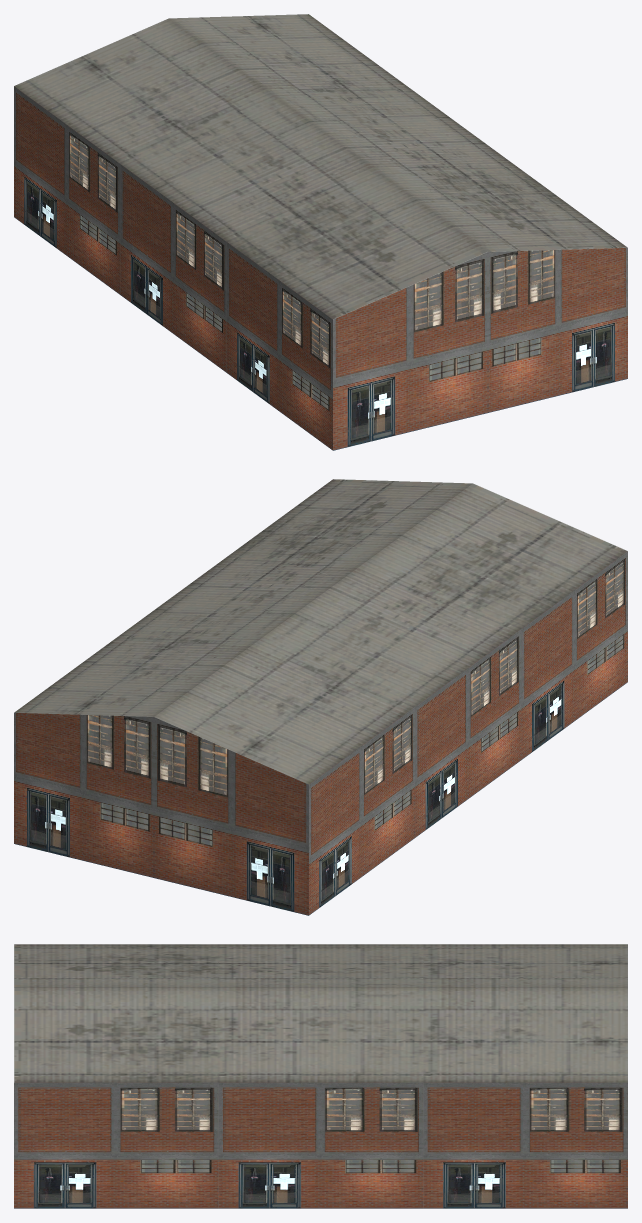
File: radar.gltf
3 renders of one model, top to bottom at view 1: azimuth 30°, elevation 25°; view 2: azimuth 150°, elevation 25°; view 3: azimuth 270°, elevation 25°, orthographic. The views are drawn at different scales.
Parts seen in each view (by area): view 1: node1; view 2: node1; view 3: node1.
Part boxes in pixels (x1,y1,x2,y2): node1: [14, 14, 627, 450]; node1: [14, 479, 627, 915]; node1: [14, 944, 627, 1208].
Size of the model in its own units: 16 by 8.35 by 30.
